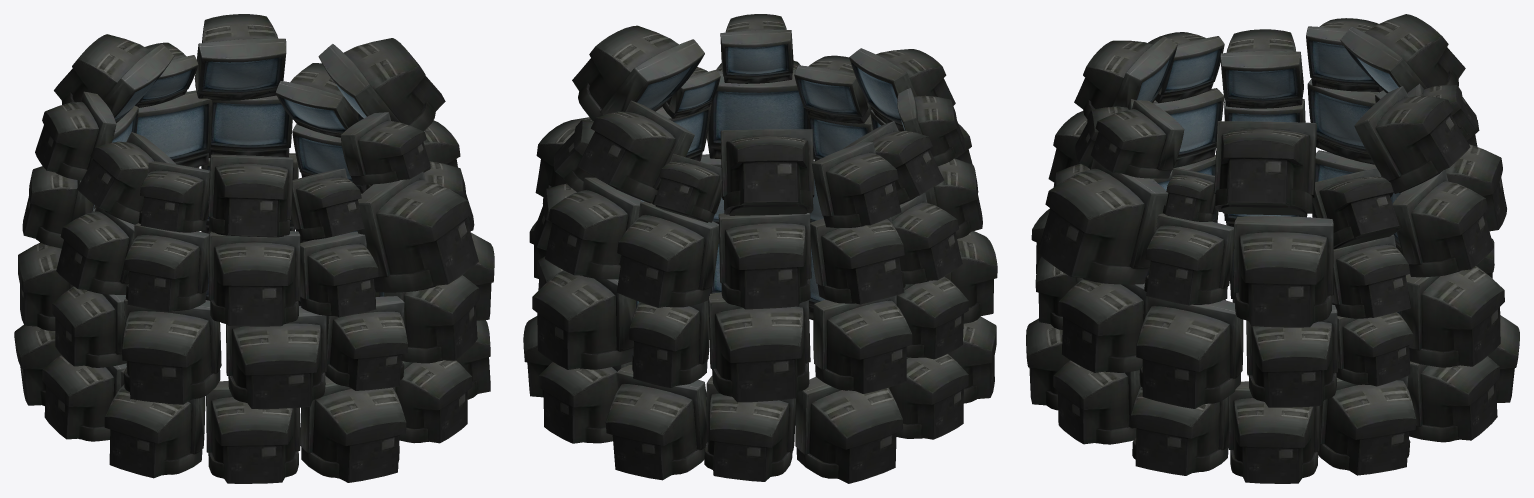
Rendered from tvs_wall.glb.
The picture shows the model from 3 angles, left to right: view 1: azimuth 30°, elevation 25°; view 2: azimuth 150°, elevation 25°; view 3: azimuth 270°, elevation 25°; orthographic projection. The views are drawn at different scales.
Parts seen in each view (by area): view 1: TV.030, TV.018, TV.011, TV.017, TV.025, TV.010, TV.009, TV.039, TV.043, TV.036, TV.016, TV.031 (+30 smaller); view 2: TV.024, TV.007, TV.012, TV.032, TV.033, TV.022, TV.013, TV.047, TV.006, TV.039, TV.038, TV.034 (+30 smaller); view 3: TV.030, TV.028, TV.014, TV.039, TV.022, TV.002, TV.038, TV.026, TV.020, TV.003, TV.015, TV.029 (+32 smaller).
Boxes of the visible parts, x1,y1,x2,y2 form: TV.030: (357, 171, 478, 292); TV.018: (122, 298, 221, 404); TV.011: (300, 375, 406, 482); TV.017: (226, 306, 326, 409); TV.025: (208, 231, 300, 326); TV.010: (206, 381, 300, 483); TV.009: (104, 368, 205, 478); TV.039: (318, 38, 445, 131); TV.043: (208, 154, 293, 237); TV.036: (124, 223, 209, 312); TV.016: (325, 296, 407, 390); TV.031: (300, 231, 378, 316); TV.024: (708, 292, 810, 402); TV.007: (795, 377, 902, 483); TV.012: (605, 365, 707, 480); TV.032: (616, 201, 719, 307); TV.033: (718, 213, 811, 309); TV.022: (532, 270, 636, 369); TV.013: (813, 295, 912, 393); TV.047: (720, 129, 814, 215); TV.006: (704, 376, 795, 481); TV.039: (572, 25, 704, 120); TV.038: (577, 100, 694, 203); TV.034: (810, 217, 905, 304); TV.030: (1037, 159, 1168, 284); TV.028: (1233, 216, 1333, 327); TV.014: (1136, 296, 1243, 408); TV.039: (1214, 121, 1316, 215); TV.022: (1400, 266, 1504, 367); TV.002: (1318, 376, 1416, 475); TV.038: (1354, 86, 1470, 193); TV.026: (1392, 169, 1493, 277); TV.020: (1246, 304, 1338, 407); TV.003: (1228, 381, 1319, 483); TV.015: (1058, 278, 1146, 372); TV.029: (1144, 213, 1233, 305).
Bounding box in the file's own units: 2.12 × 1.62 × 2.2.
96 materials, 96 textured.
